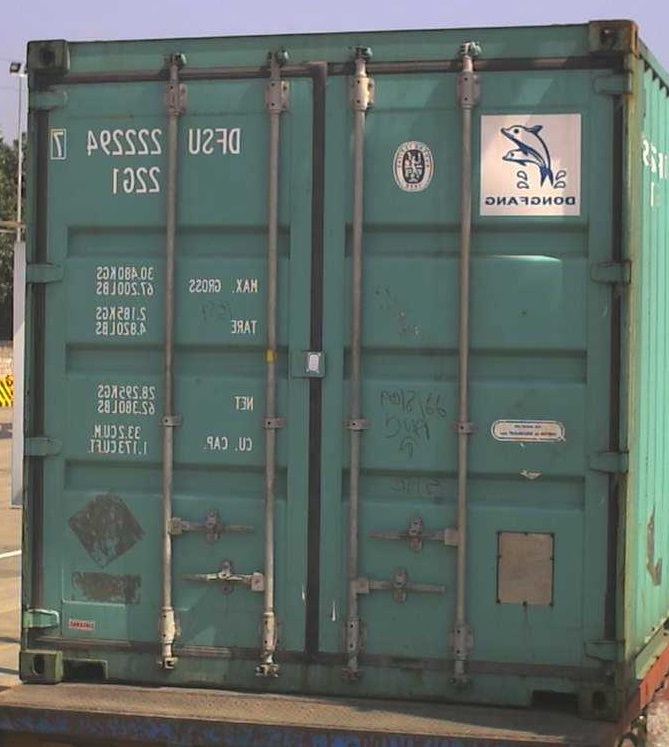container_door: (22, 20, 637, 704)
